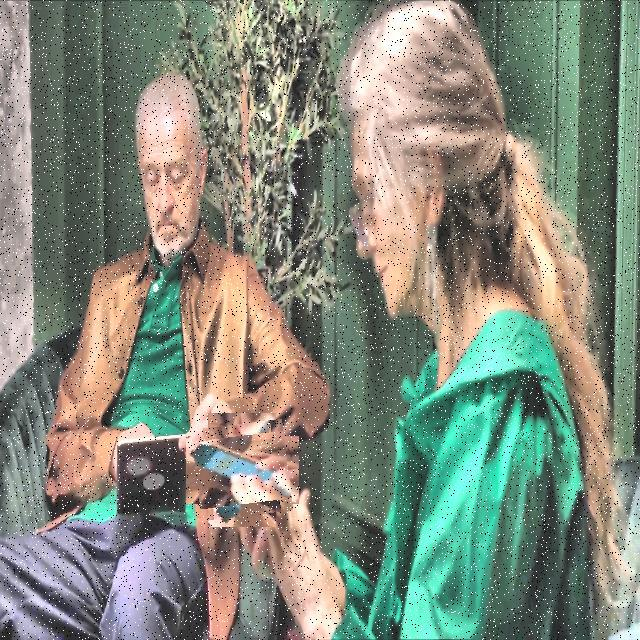Phone: (194, 422, 290, 518)
